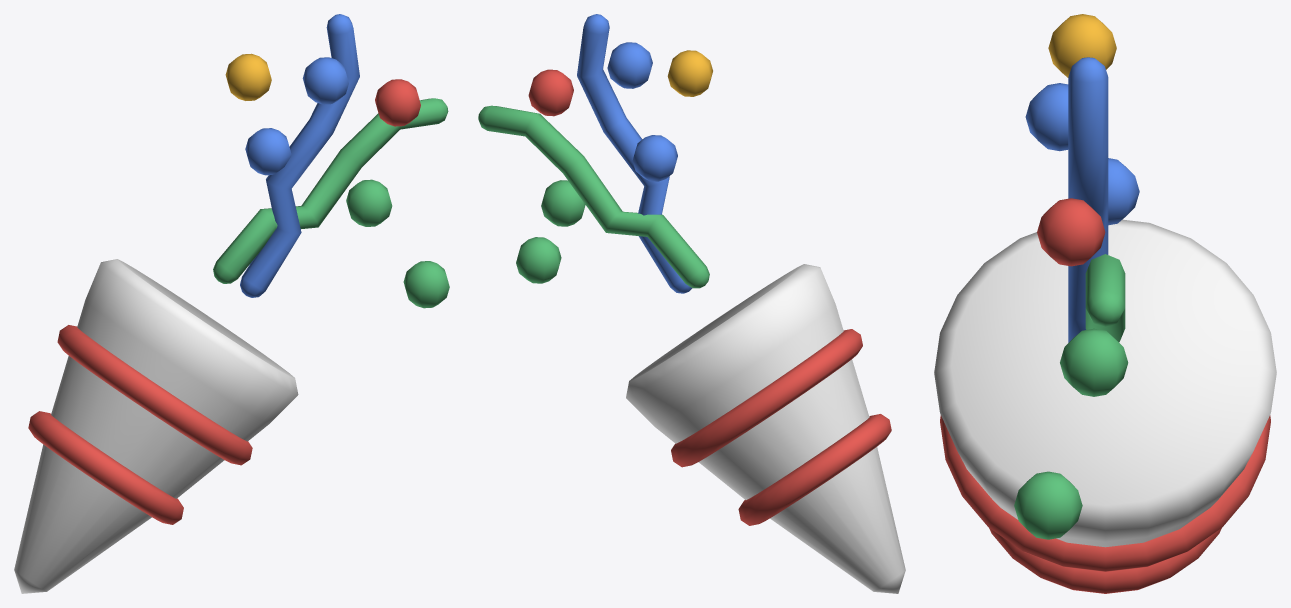
Rendered from party_popper.glb.
3 renders of one model, left to right at view 1: azimuth 30°, elevation 25°; view 2: azimuth 150°, elevation 25°; view 3: azimuth 270°, elevation 25°, orthographic. The views are drawn at different scales.
Parts seen in each view (by area): view 1: party_popper; view 2: party_popper; view 3: party_popper.
Part boxes in pixels (x1=…): party_popper: x1=14, y1=14, x2=449, y2=593; party_popper: x1=478, y1=14, x2=905, y2=593; party_popper: x1=934, y1=14, x2=1276, y2=593.
Size of the model in its own units: 0.8852 by 1 by 0.428.
